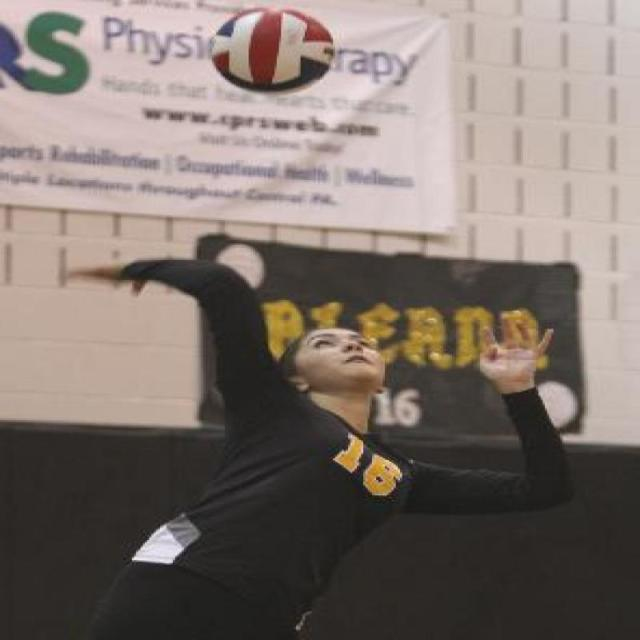volleyball: (210, 5, 338, 95)
